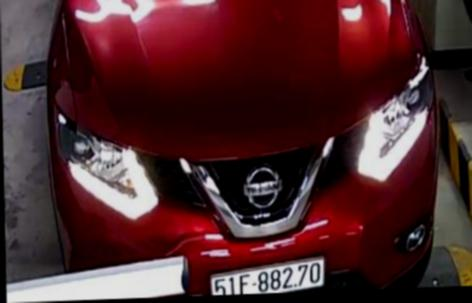License_Plate: (210, 251, 336, 294)
